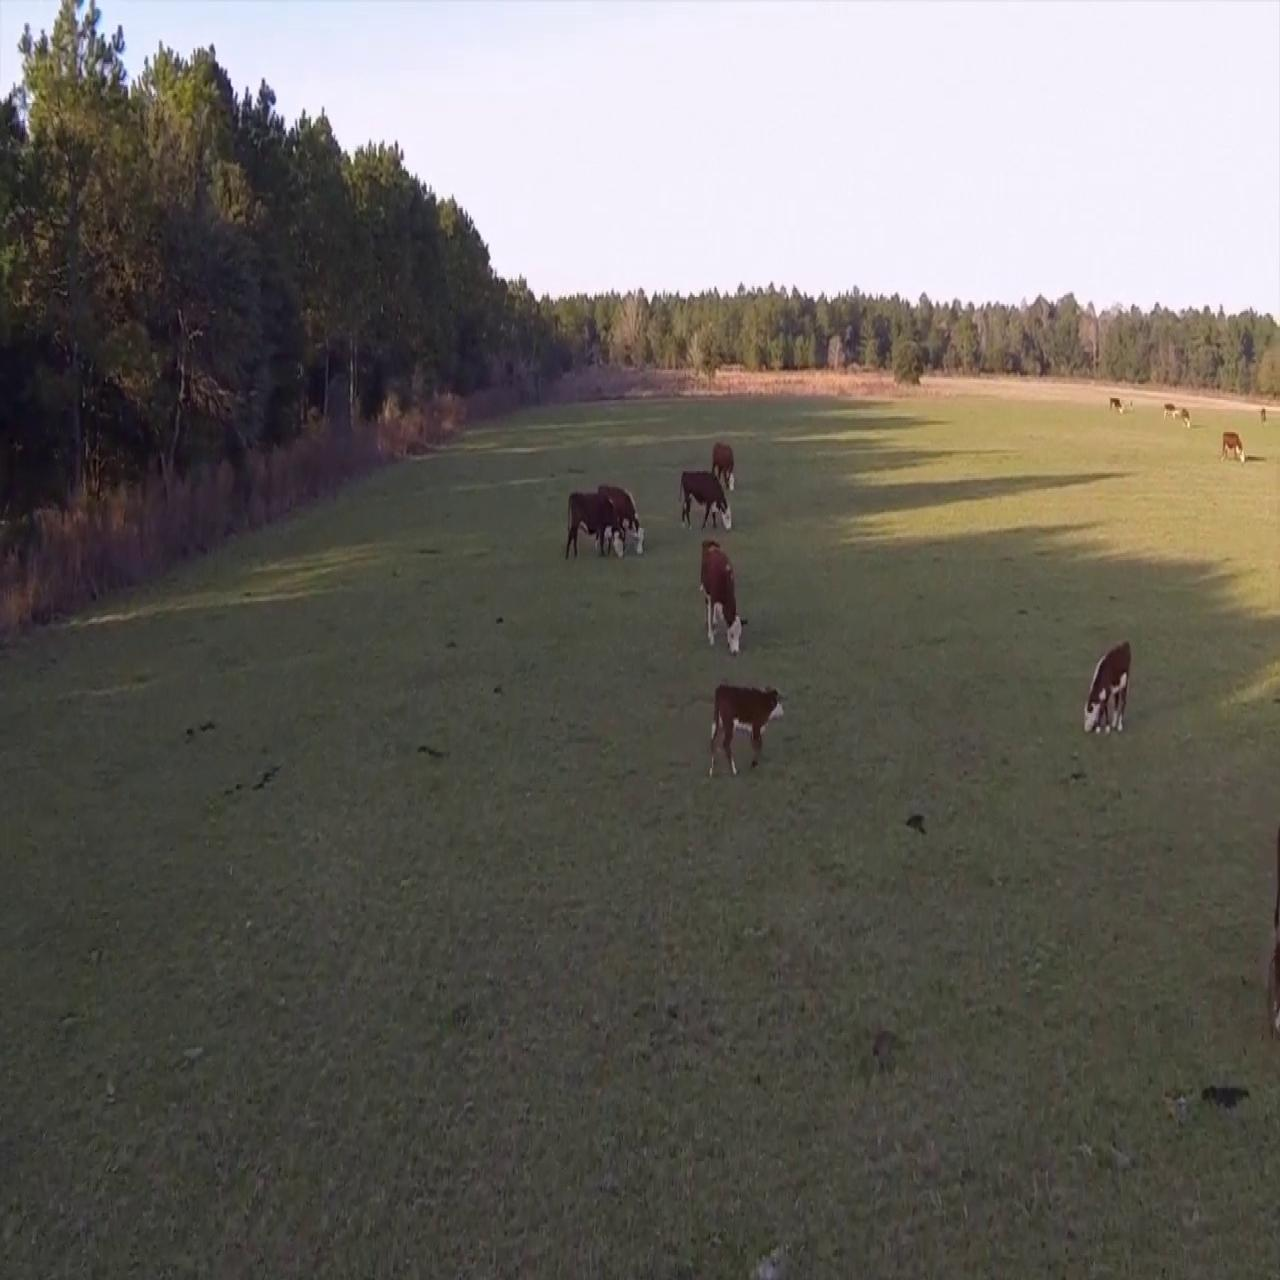cow: (700, 667, 788, 783), (688, 522, 753, 661), (558, 485, 629, 568), (1085, 634, 1137, 742), (595, 472, 651, 557), (673, 470, 733, 537), (712, 430, 741, 503)
